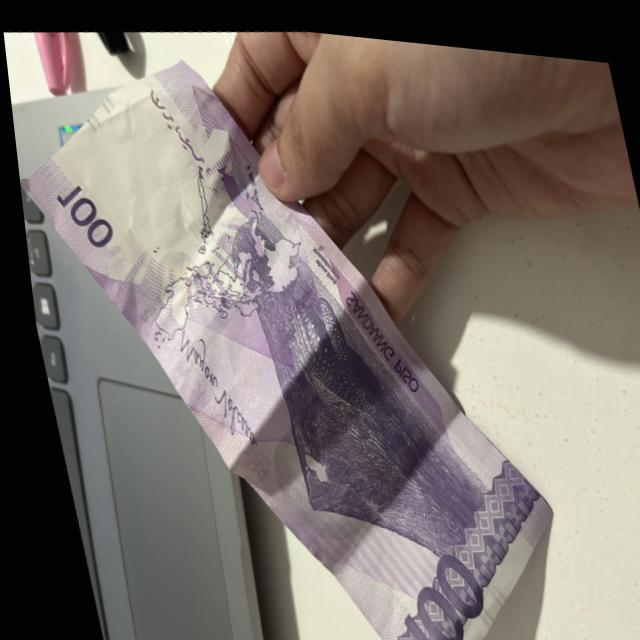100_whale: (270, 267, 387, 428)
100_whale_watermark: (210, 148, 257, 218)
